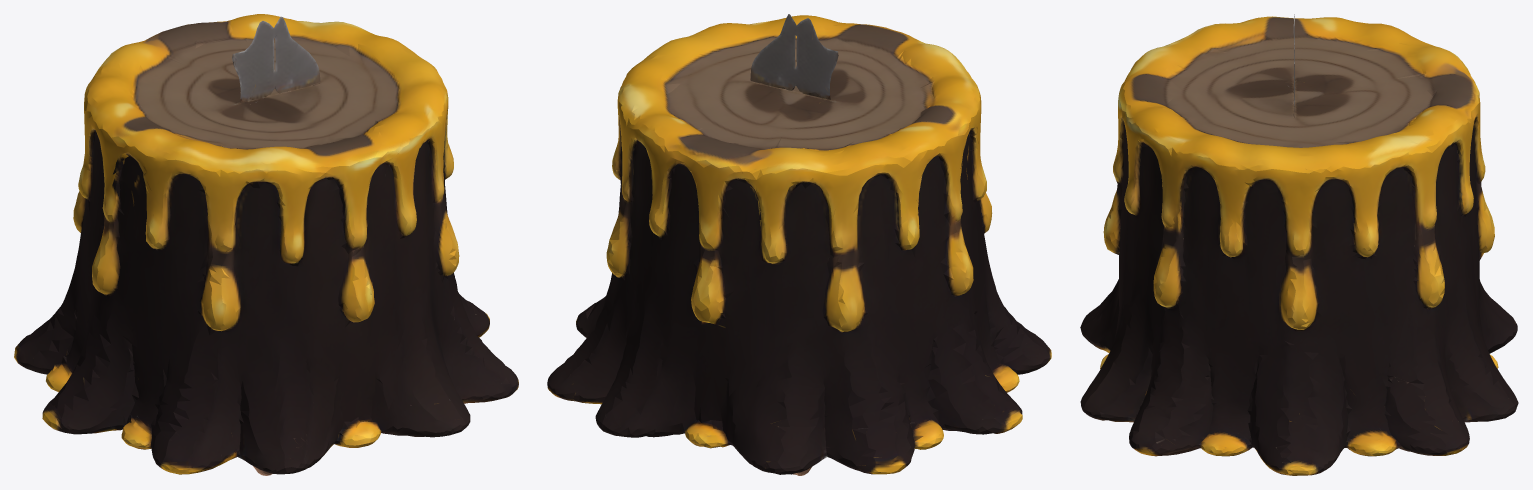
Rendered from Node_Resin.glb.
3 views of the same model, side by side, from view 1: azimuth 30°, elevation 25°; view 2: azimuth 150°, elevation 25°; view 3: azimuth 270°, elevation 25° (orthographic).
Parts seen in each view (by area): view 1: Node_Resin; view 2: Node_Resin; view 3: Node_Resin.
Boxes of the visible parts, x1,y1,x2,y2 form: Node_Resin: (14,14,518,475); Node_Resin: (547,14,1051,475); Node_Resin: (1080,14,1518,475).
Bounding box in the file's own units: 1.89 × 1.9 × 1.66.
1 material, 1 textured.
